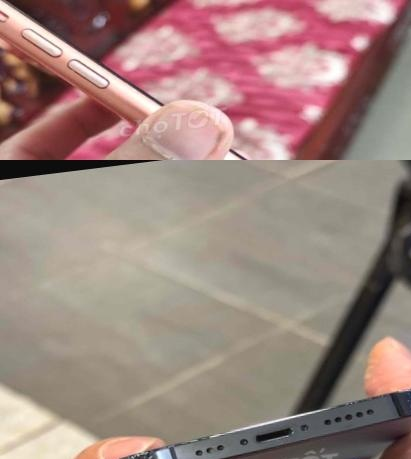scratch: (172, 393, 393, 448), (119, 440, 181, 459), (386, 381, 411, 421), (93, 89, 131, 111)
